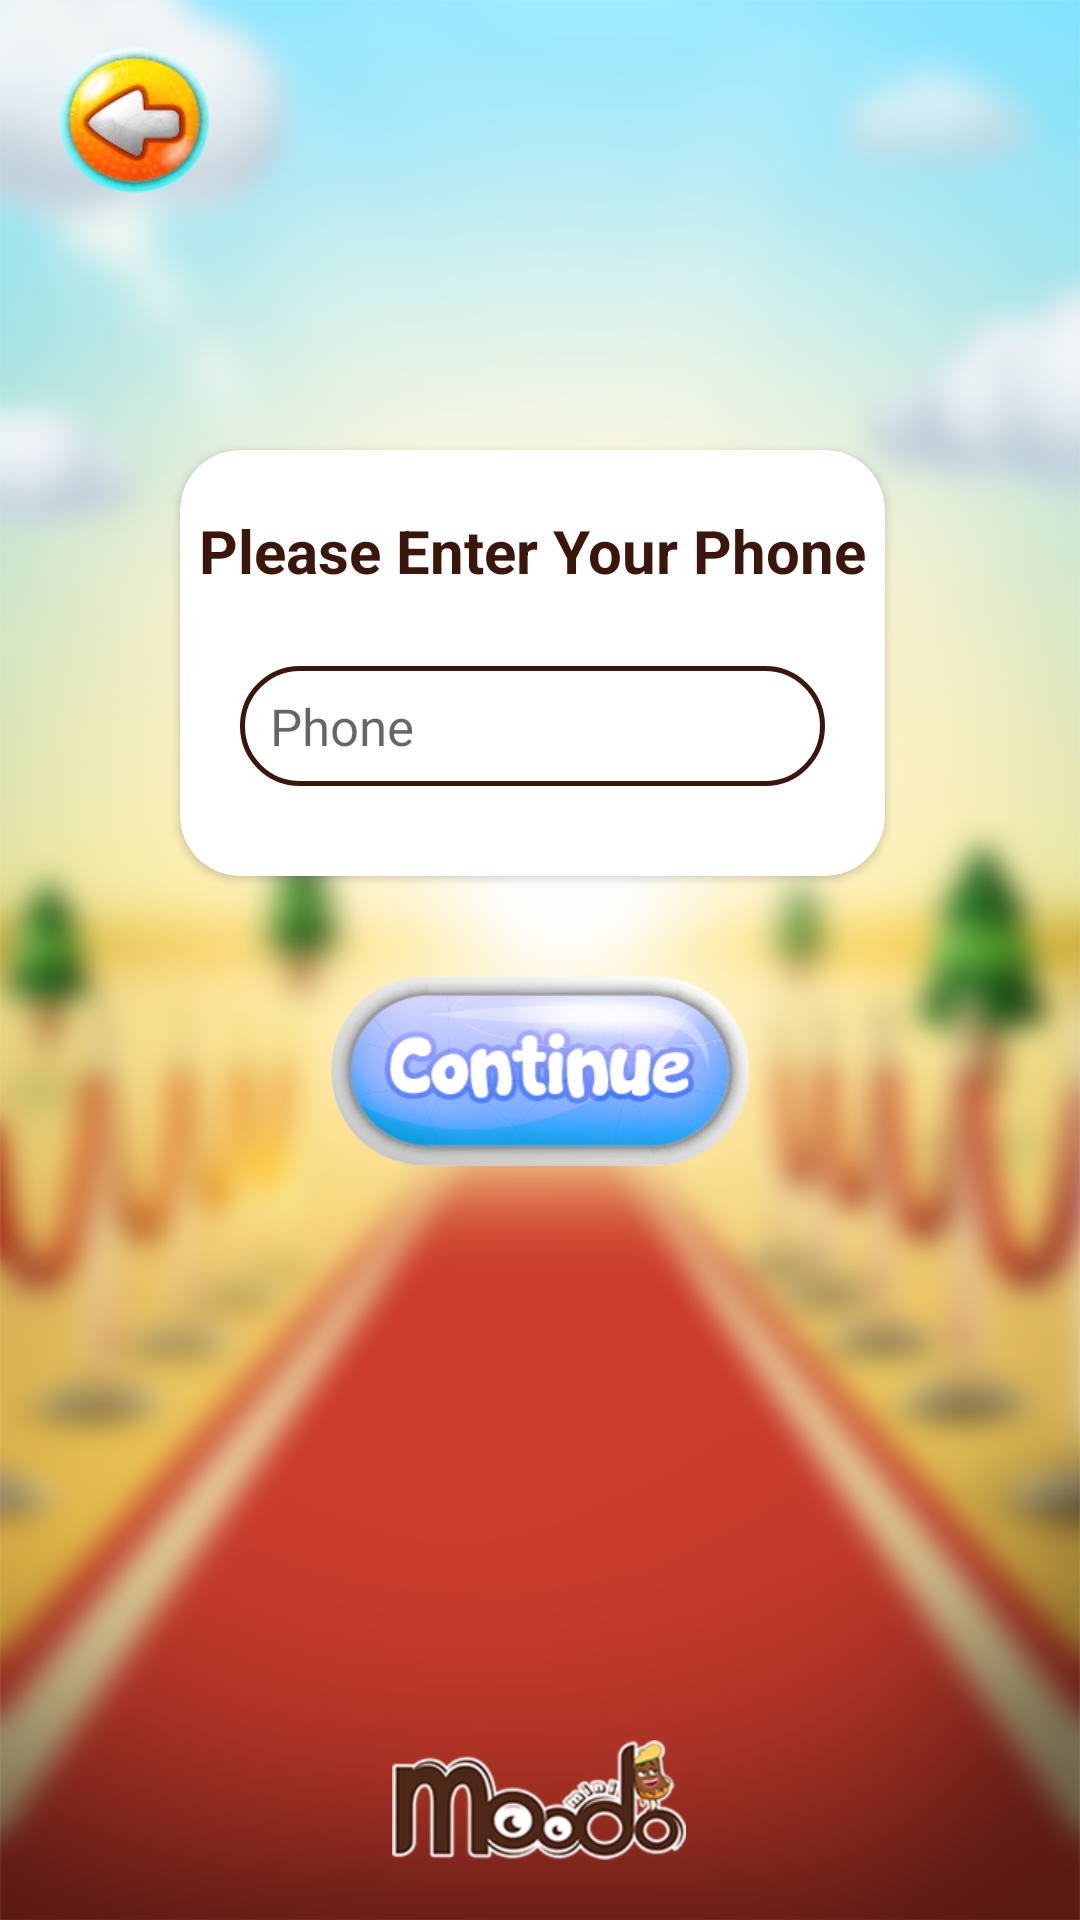

Icons on this 1080 x 1920 Android screen, each with the point to tap as point (x, y):
back: point (135, 123)
